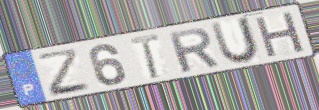6: (87, 42, 128, 87)
H: (253, 9, 308, 60)
R: (165, 26, 222, 75)
T: (128, 32, 162, 81)
U: (208, 14, 262, 65)
Z: (34, 46, 93, 98)
